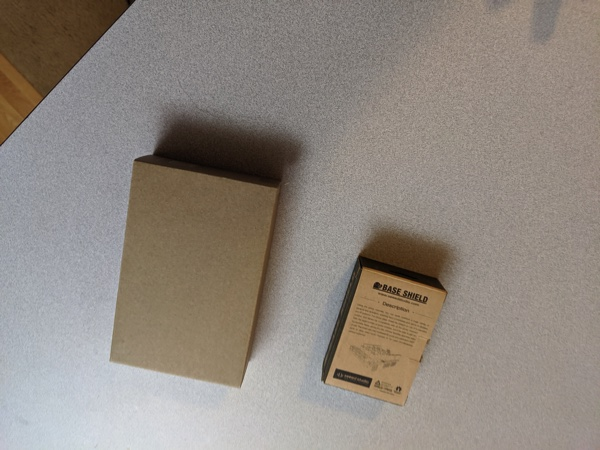cardboard: (101, 118, 288, 408), (311, 237, 456, 417)
